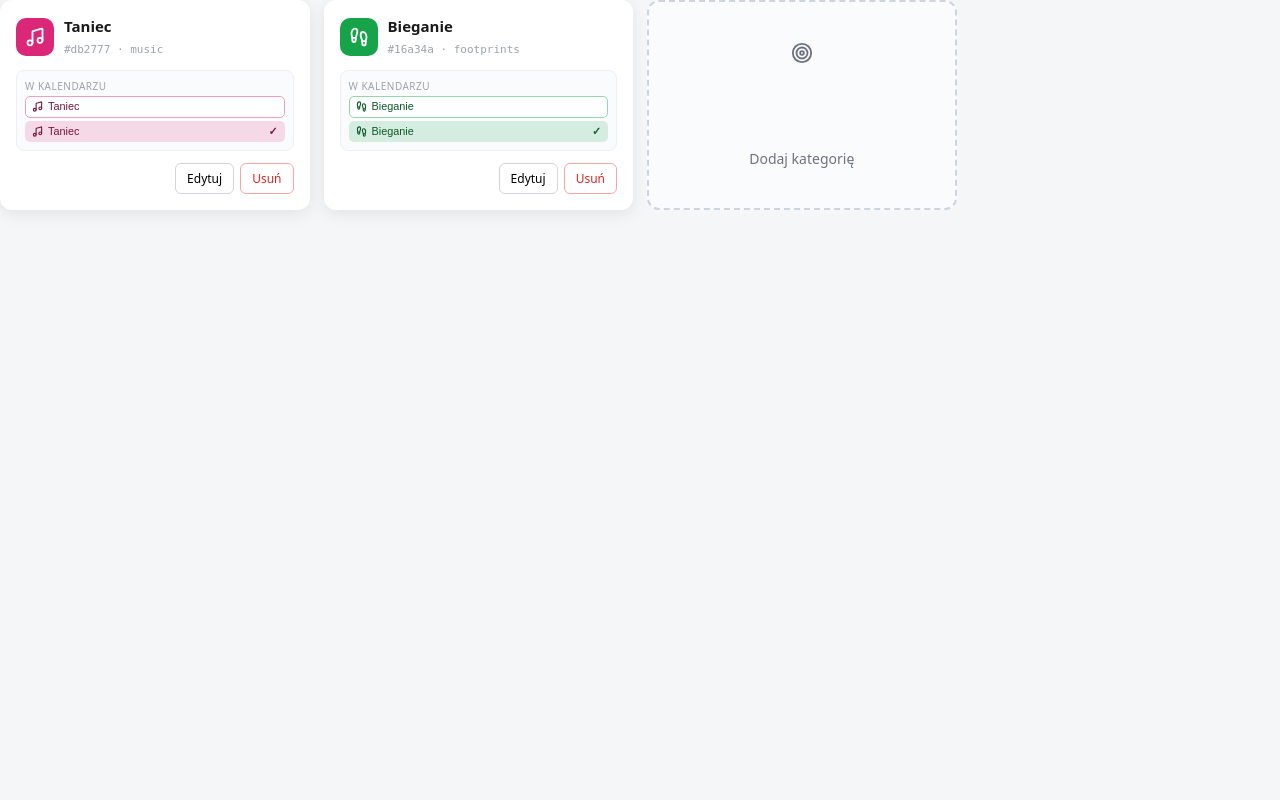
AdminCategoriesPage › odmowa usunięcia pokazuje komunikat z serwera i zostawia kategorię
The image size is (1280, 800).
Click the button "Usuń" below "#db2777".
click(267, 179)  # box x1=240 y1=163 x2=294 y2=194
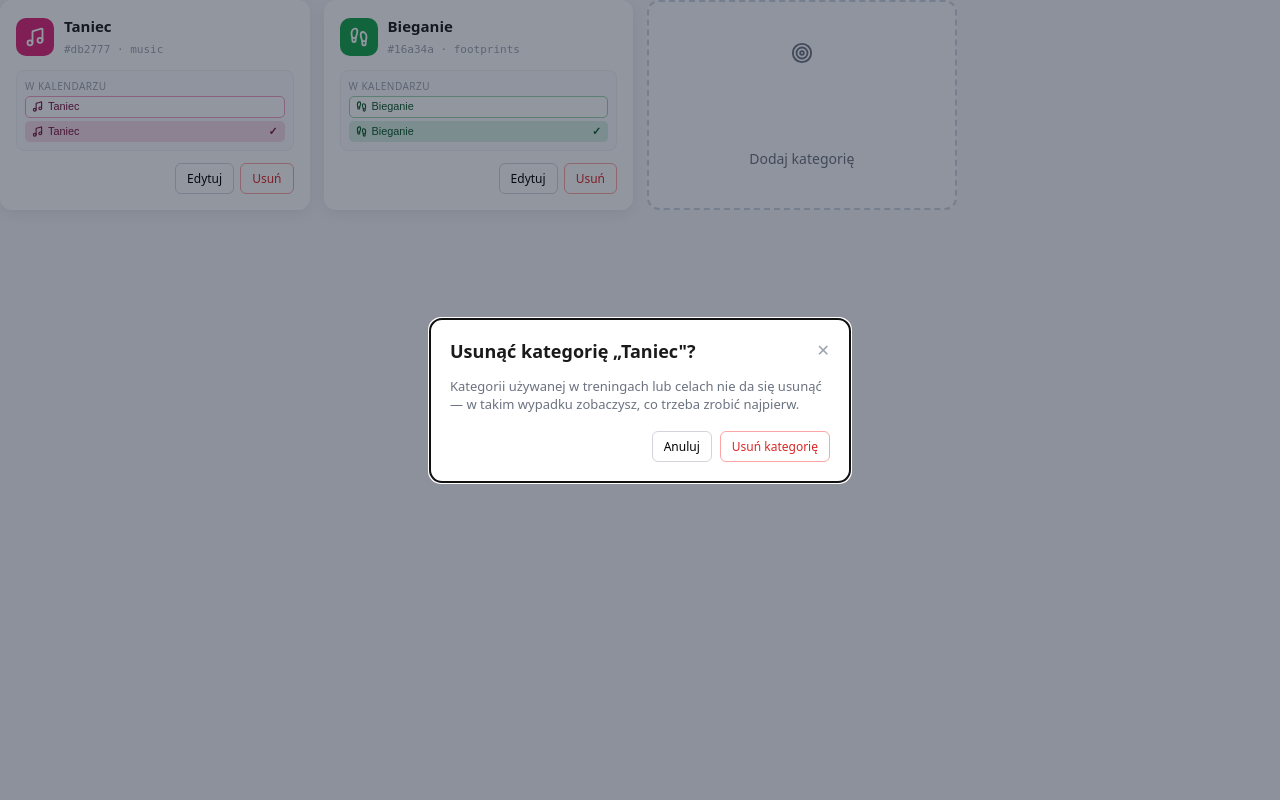
Click the button "Usuń kategorię".
click(775, 446)  # box x1=720 y1=430 x2=830 y2=462
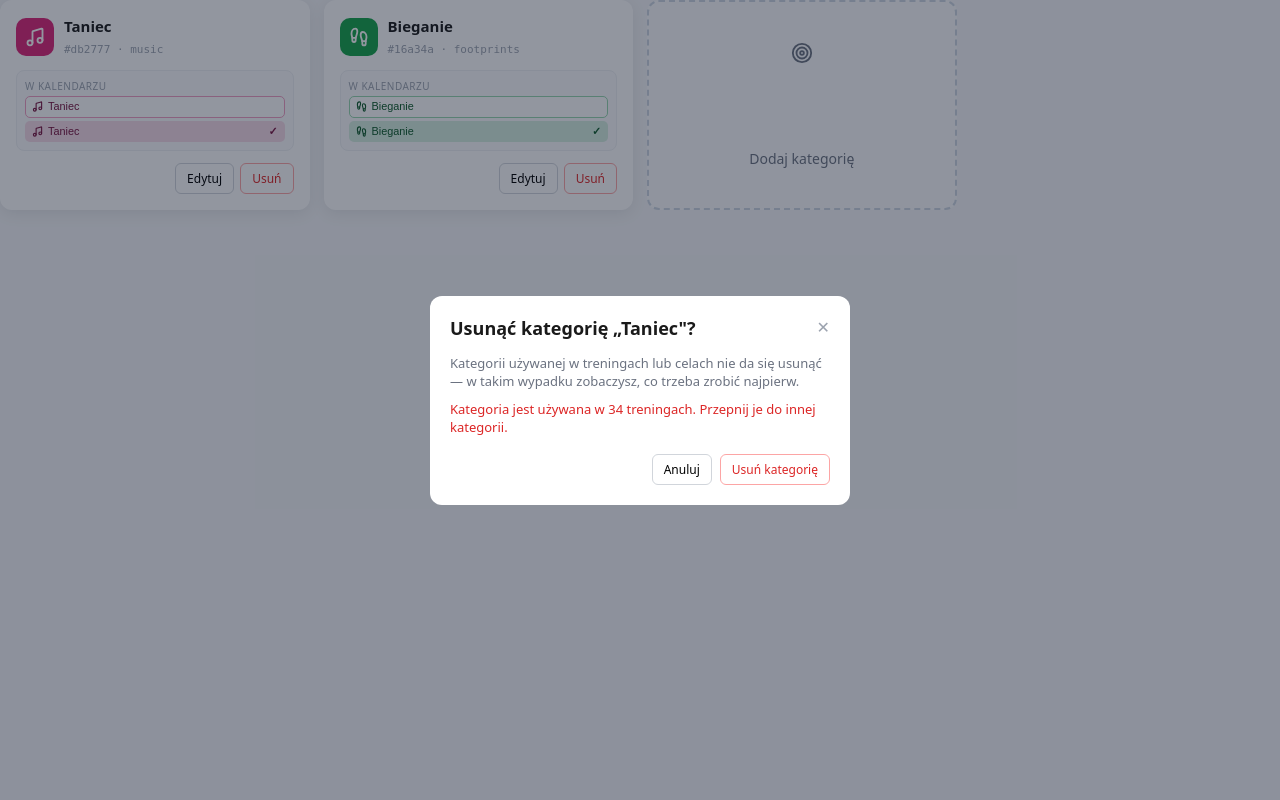
Expected: the heading "Taniec" is shown, x1=64 y1=16 x2=112 y2=36
Expected: the text "Kategoria jest używana w 34 treningach. Przepnij je do innej kategorii." is shown, x1=450 y1=400 x2=830 y2=436
